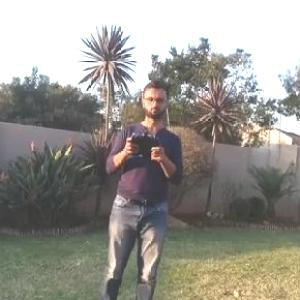follow: (93, 73, 191, 299)
